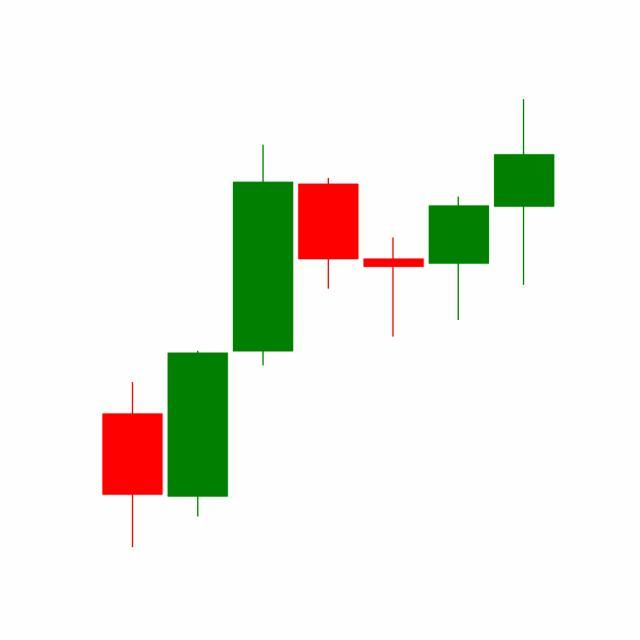Hikkake Pattern: (229, 99, 555, 371)
